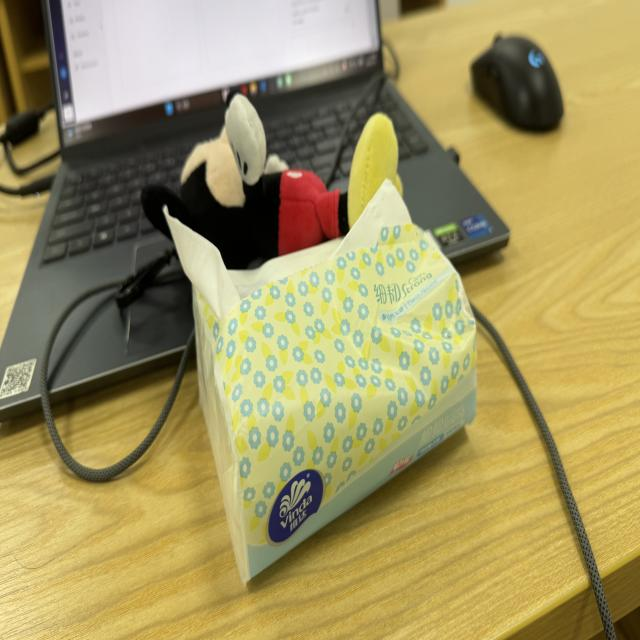mickey: (142, 95, 401, 268)
tissue: (166, 178, 478, 587)
